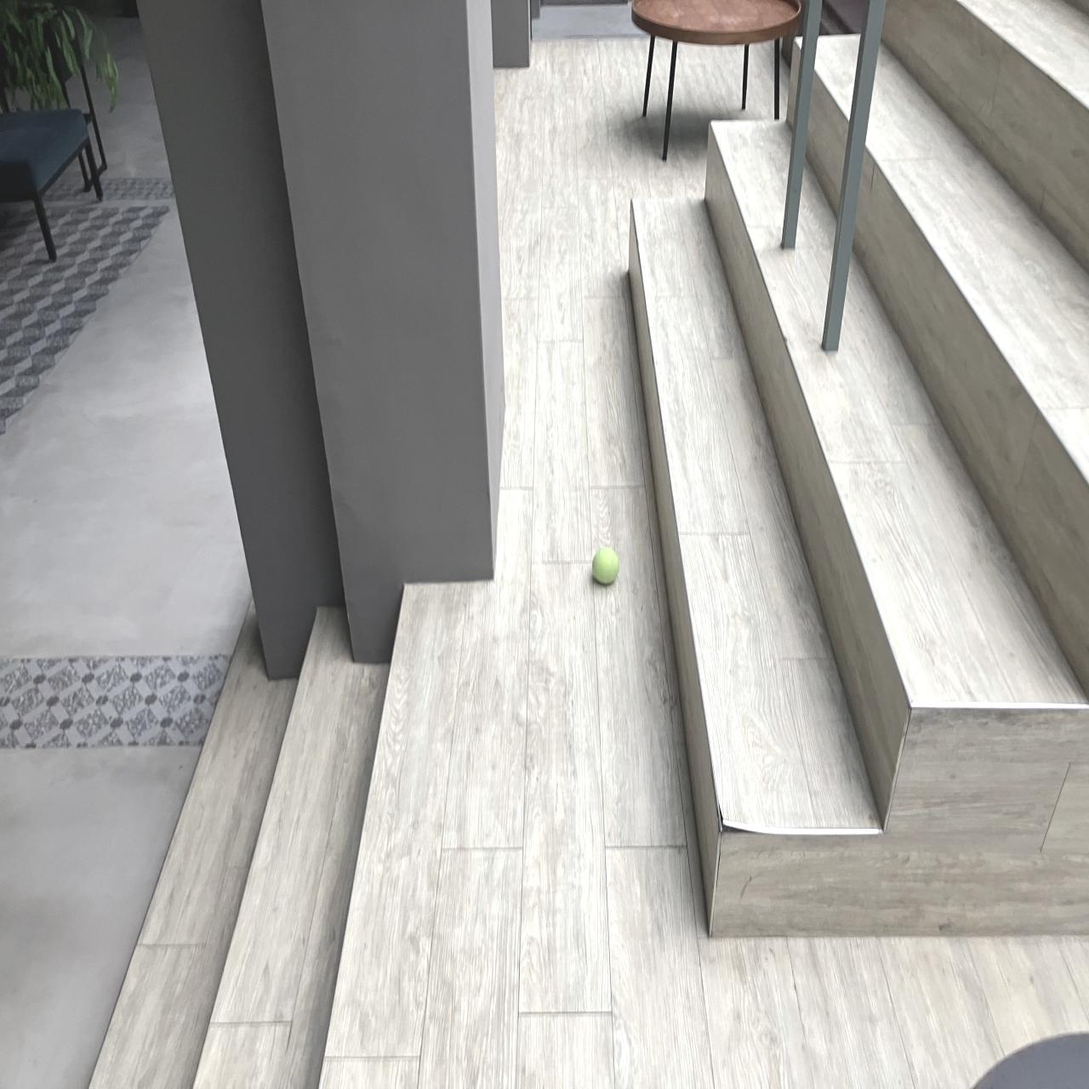tennisball: (592, 548, 619, 584)
